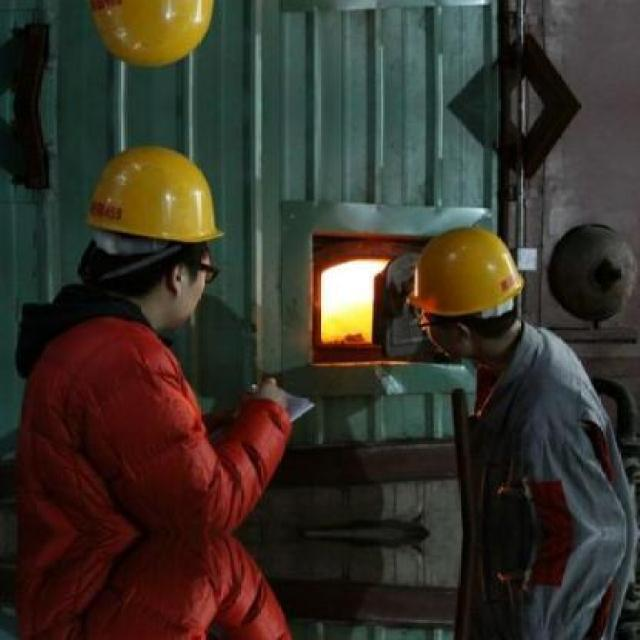yellow helmet: (88, 145, 227, 246), (410, 225, 526, 317), (94, 1, 220, 71)
